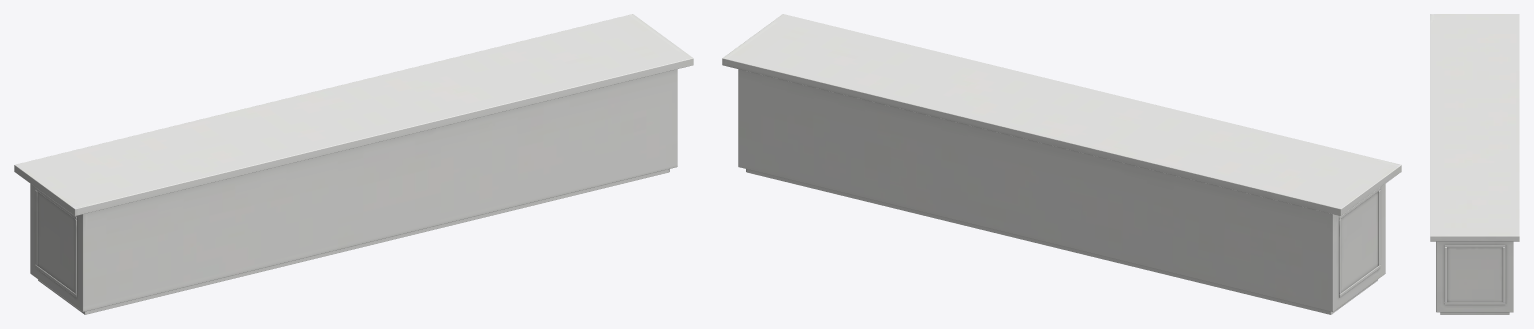
File: dessert_counter.glb
3 views of the same model, side by side, from view 1: azimuth 30°, elevation 25°; view 2: azimuth 150°, elevation 25°; view 3: azimuth 270°, elevation 25° (orthographic). The views are drawn at different scales.
Parts seen in each view (by area): view 1: dessert_counter; view 2: dessert_counter; view 3: dessert_counter.
Boxes of the visible parts, <box> form: dessert_counter: <box>14,14,693,314</box>; dessert_counter: <box>722,14,1401,314</box>; dessert_counter: <box>1430,14,1519,314</box>.
Size of the model in its own units: 6.24 by 1.11 by 1.06.
Materials: 1 (1 with a texture image).
